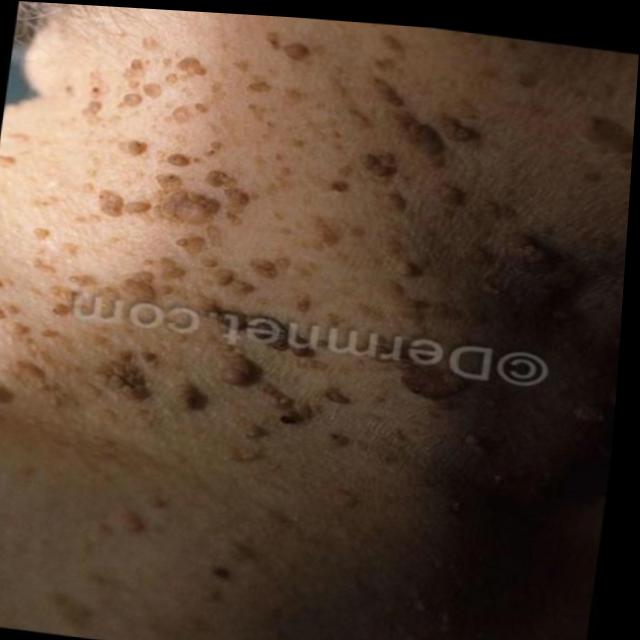Eczema: (9, 37, 611, 516)
